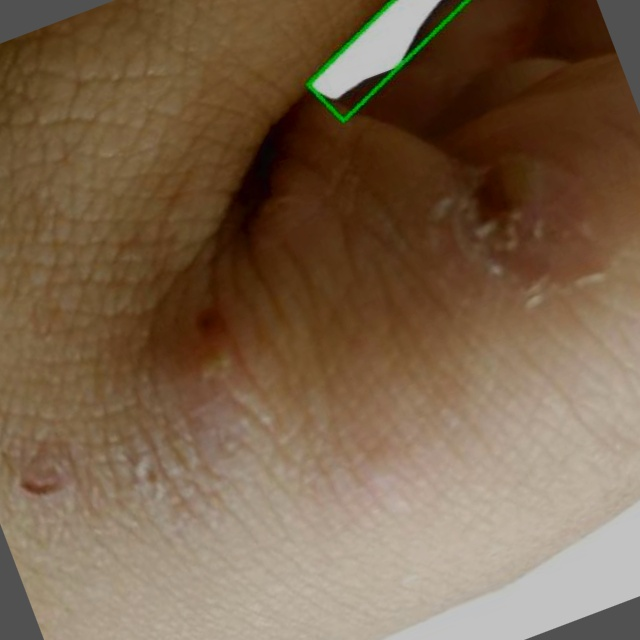Scabies: (306, 0, 465, 120)
